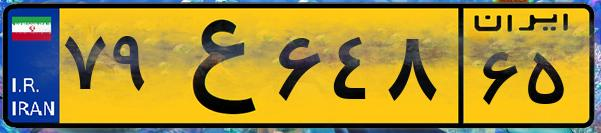4: (330, 28, 385, 110)
5: (525, 38, 570, 115)
6: (270, 28, 330, 110), (475, 38, 525, 113)
7: (57, 26, 110, 100)
8: (385, 28, 445, 110)
9: (110, 28, 158, 98)
ع: (158, 12, 270, 120)
